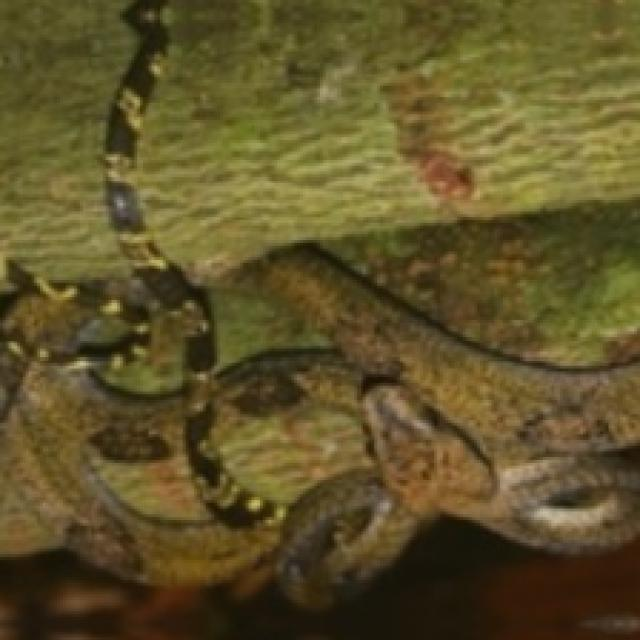dog-toothed cat snake: (0, 0, 637, 494), (0, 517, 637, 637), (460, 417, 637, 534), (129, 517, 217, 566)
